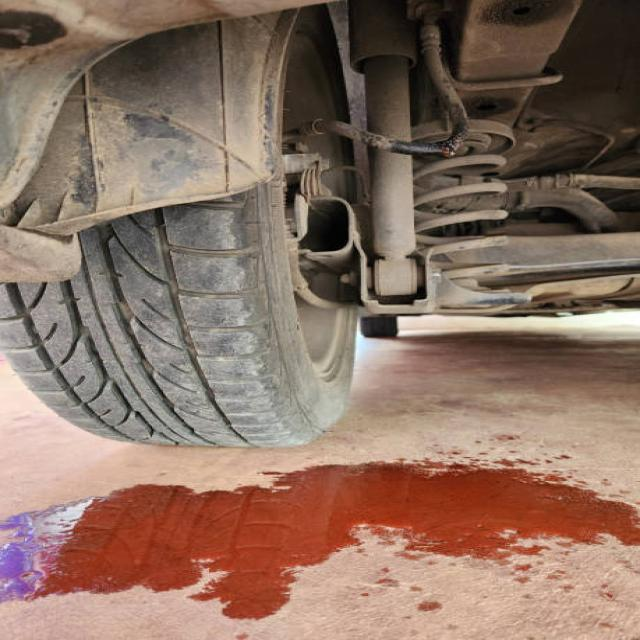water accumulation: (0, 462, 640, 622)
